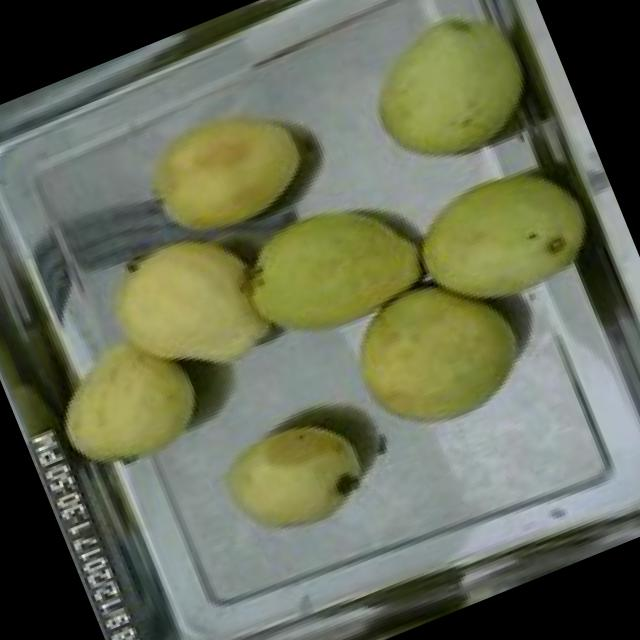Fruit: (71, 193, 296, 413), (386, 139, 614, 341), (326, 252, 544, 454), (219, 170, 444, 364), (114, 69, 331, 268), (14, 295, 224, 496), (337, 0, 558, 190), (204, 395, 383, 557)
